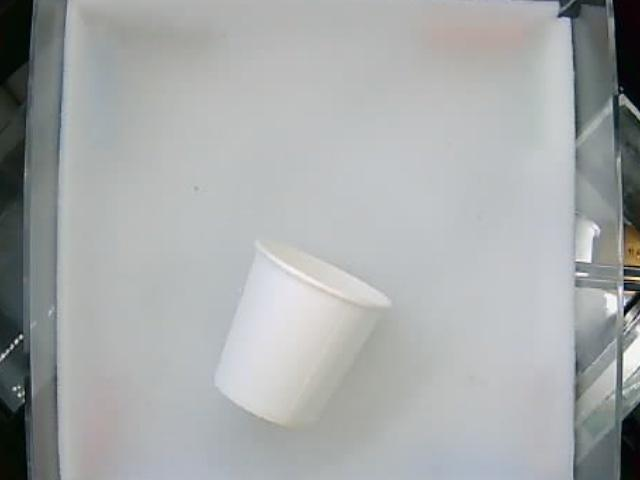Cup: (212, 239, 395, 427)
